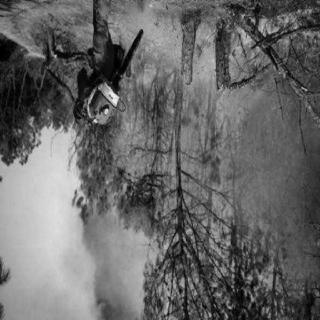Fire: (102, 64, 246, 276), (206, 5, 312, 109)
